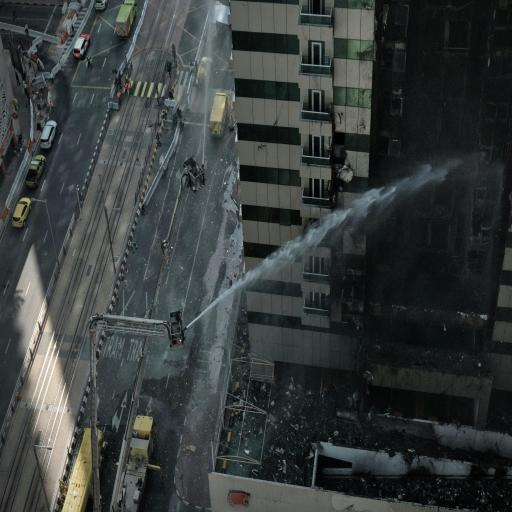buildingfire: (373, 16, 509, 342)
